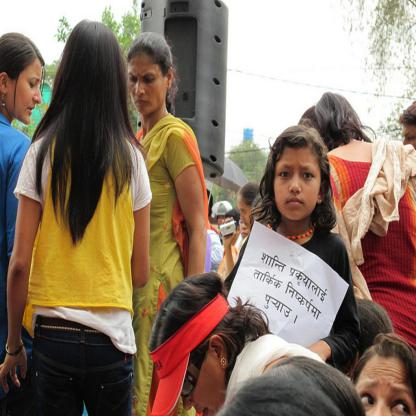face: (169, 335, 230, 415), (353, 357, 416, 416), (275, 144, 322, 221), (129, 57, 167, 115), (10, 60, 43, 126), (401, 121, 416, 176), (238, 196, 260, 230), (241, 214, 256, 241), (219, 211, 229, 230)
